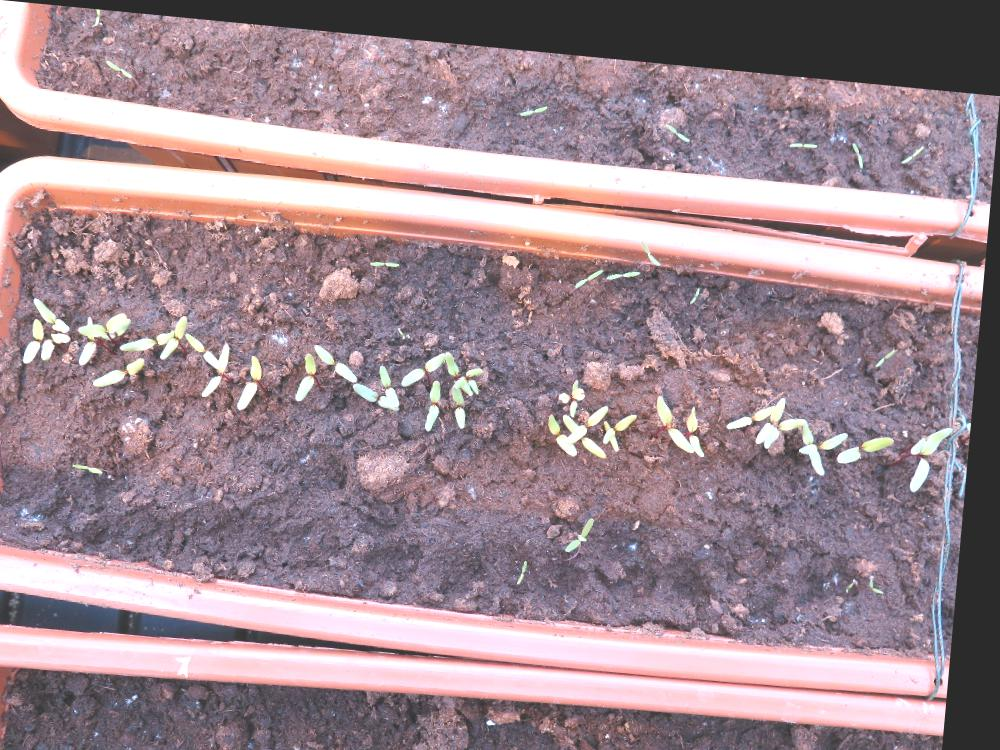crop: (97, 347, 151, 388), (241, 345, 269, 407), (429, 369, 448, 423)
weed: (573, 501, 602, 541), (577, 252, 607, 279), (640, 224, 667, 253), (607, 252, 645, 269), (102, 55, 134, 75), (663, 107, 692, 128), (517, 90, 549, 107), (878, 326, 900, 350), (901, 124, 925, 146), (849, 123, 866, 152), (79, 458, 112, 472), (370, 250, 405, 261), (876, 556, 894, 575), (788, 122, 819, 133), (525, 545, 536, 574), (693, 269, 704, 289)
